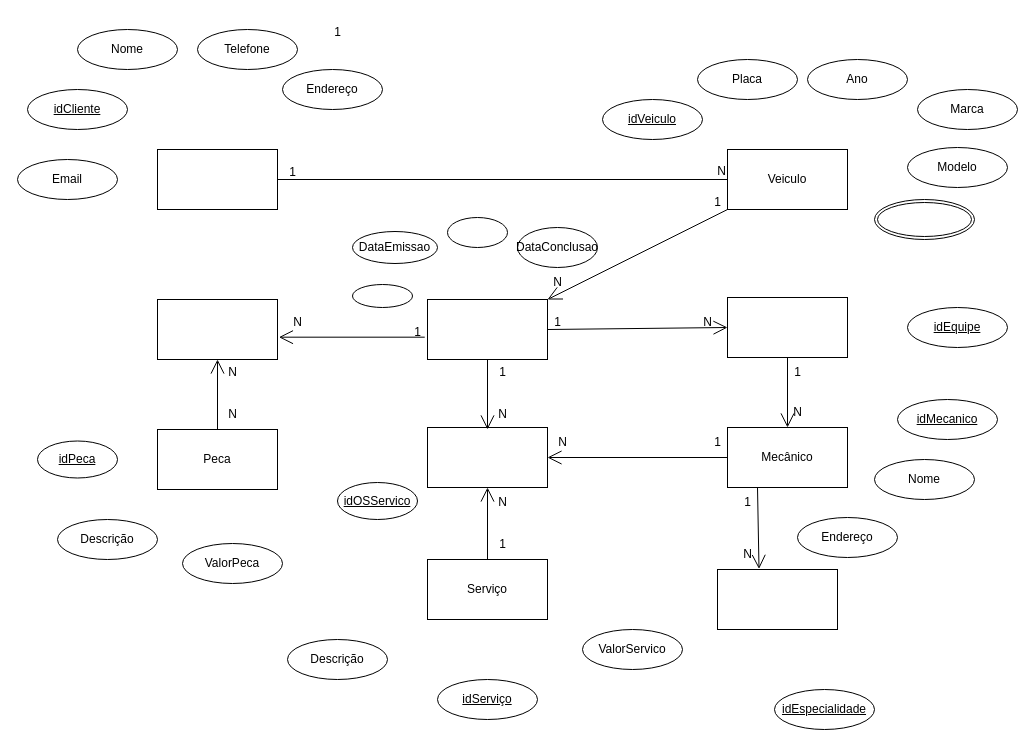
Image size: 1035x747. Some labels were removed from this diagram. Here are the shapes that lost their labels. From the top down, the centre of each, then its label:
the point at 217,179: Cliente
the point at 477,232: Status
the point at 924,219: Cor
the point at 382,296: idOS
the point at 217,329: OS_Peca
the point at 487,329: Ordem_De_Servico
the point at 787,327: Equipe
the point at 487,457: OS_Servico
the point at 777,599: Especialidade
